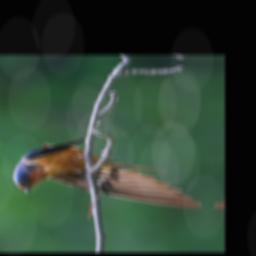Swallow: (7, 130, 211, 210)
